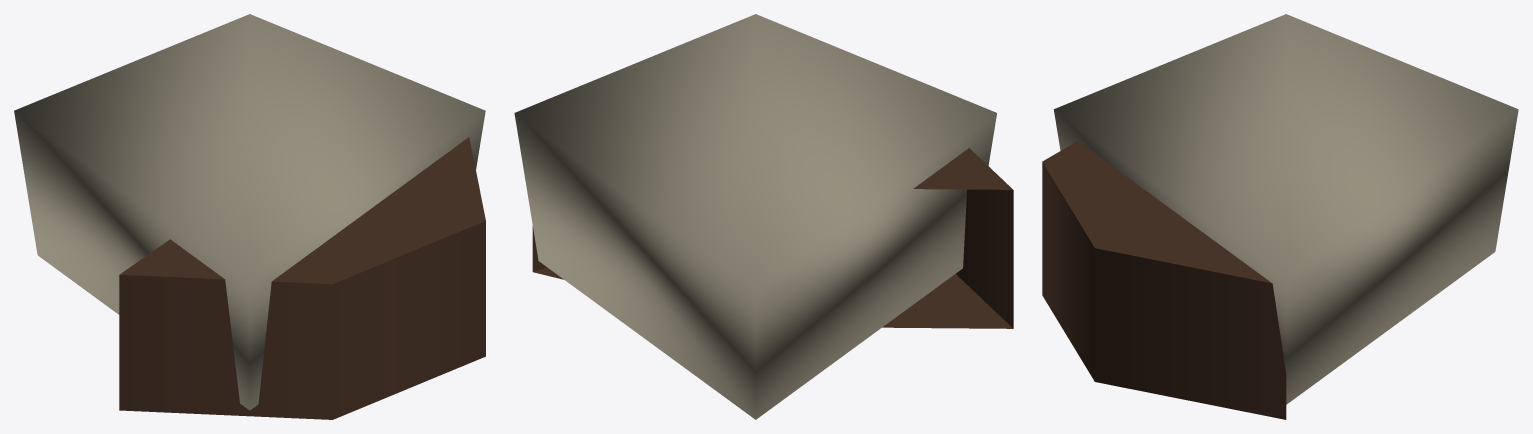
The model's file is onigiri.obj.
The picture shows the model from 3 angles, left to right: view 1: azimuth 30°, elevation 25°; view 2: azimuth 150°, elevation 25°; view 3: azimuth 270°, elevation 25°; orthographic projection. The views are drawn at different scales.
Visible parts, largest first — view 1: onigiri; view 2: onigiri; view 3: onigiri.
Boxes of the visible parts, x1,y1,x2,y2 form: onigiri: [14, 14, 485, 419]; onigiri: [514, 14, 1013, 419]; onigiri: [1042, 14, 1518, 419].
Bounding box in the file's own units: 1.45 × 1.05 × 1.42.
